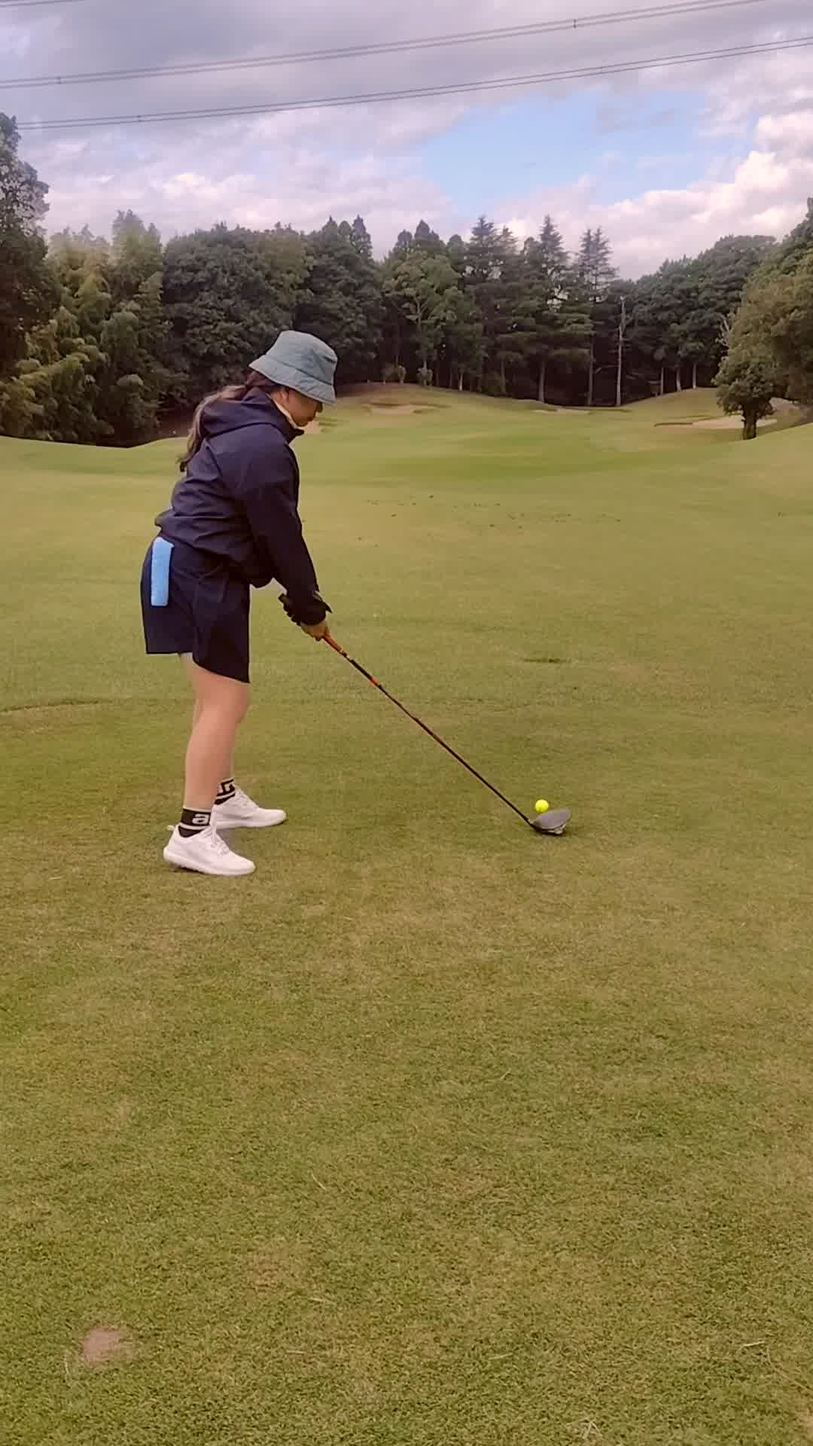clubhead: (452, 764, 678, 859)
